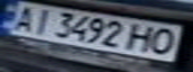2: (103, 17, 130, 50)
3: (48, 9, 75, 40)
4: (66, 14, 90, 43)
9: (84, 16, 109, 46)
A: (3, 2, 42, 33)
H: (124, 21, 163, 53)
I: (24, 6, 57, 35)
O: (145, 26, 184, 55)
